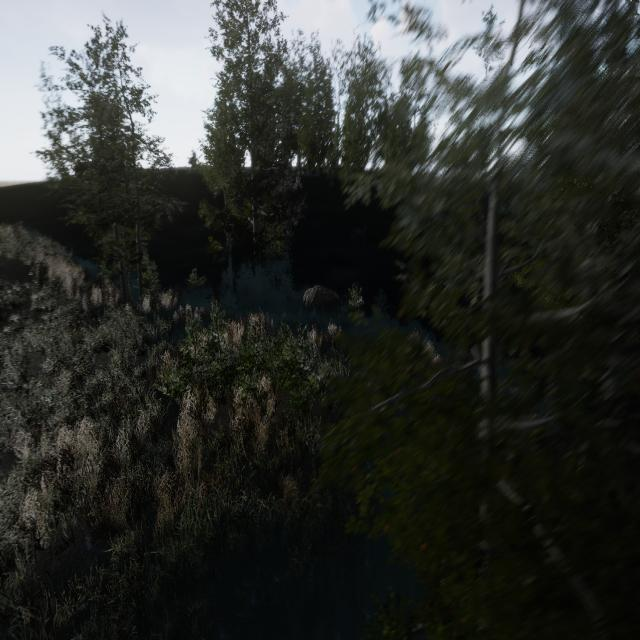Human: (304, 323, 322, 388)
